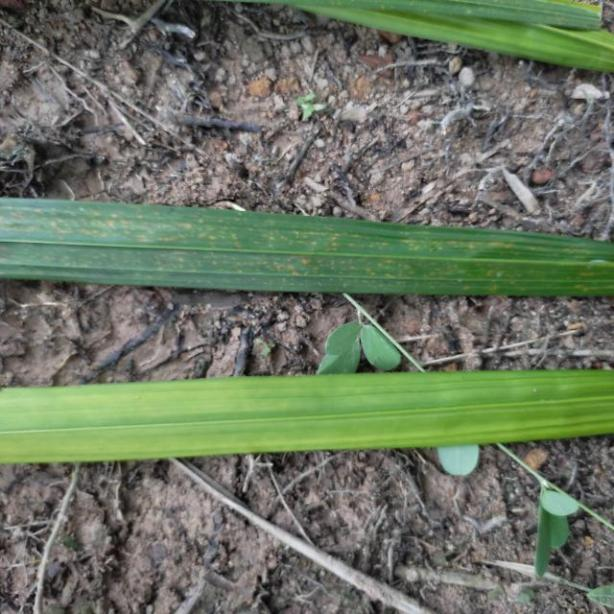nitrogen: (0, 190, 614, 301), (0, 363, 614, 467)
